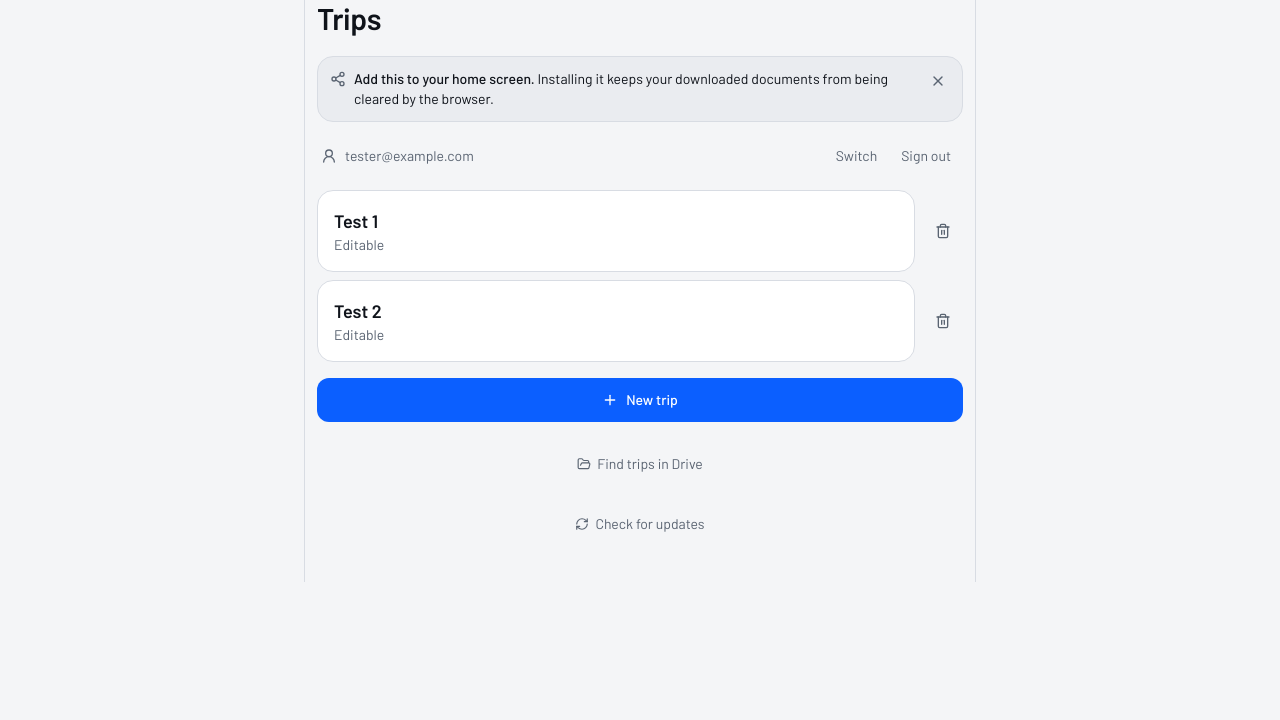
Test: deleting a trip › asks before doing anything
Click the button named "Delete Test 1" at (943, 231), box top-left (923, 211), bottom-right (963, 251)
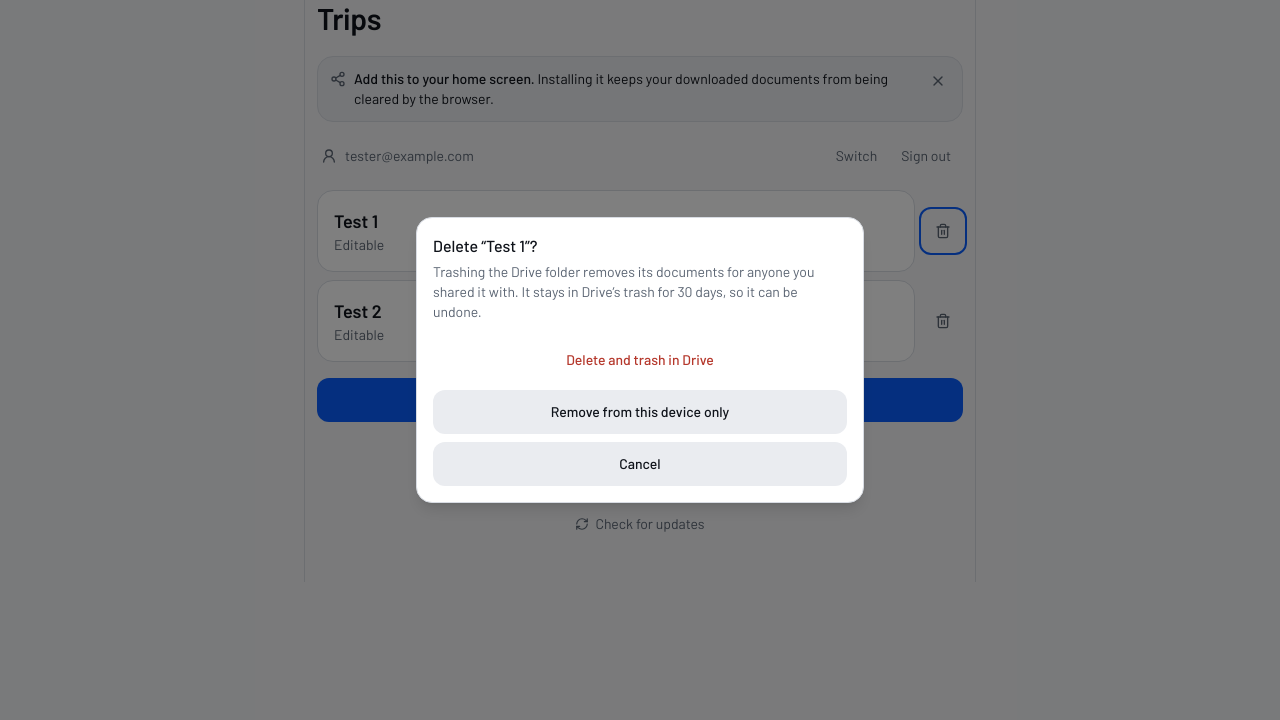
Expected: the text "Test 1" is shown, top-left (334, 210), bottom-right (378, 232)
Expected: the dialog named "Delete Test 1" is shown
